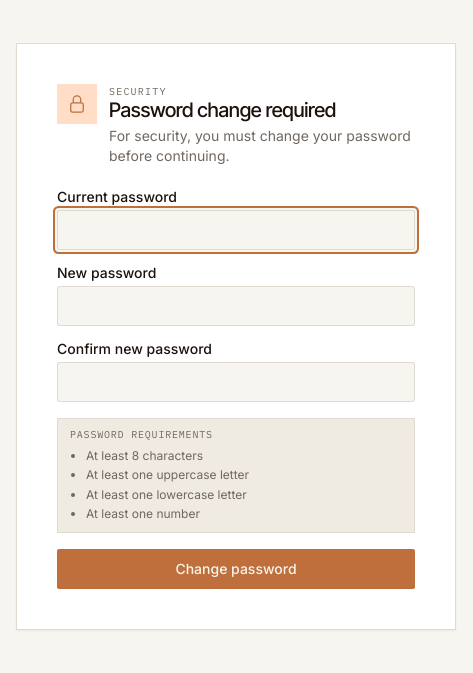
Test case: ChangePasswordForm › shows password mismatch error on submit
In the password field labelled "Current password": (236, 230) [57,210,415,250], type "OldPass1!"
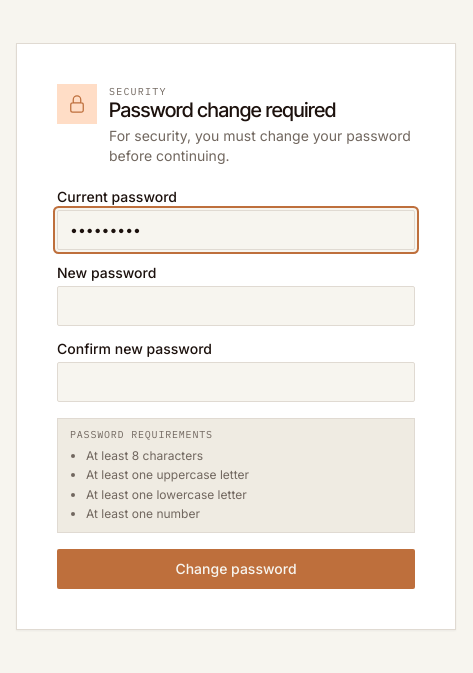
In the password field labelled "New password": (236, 306) [57,286,415,326], type "NewPass1!"
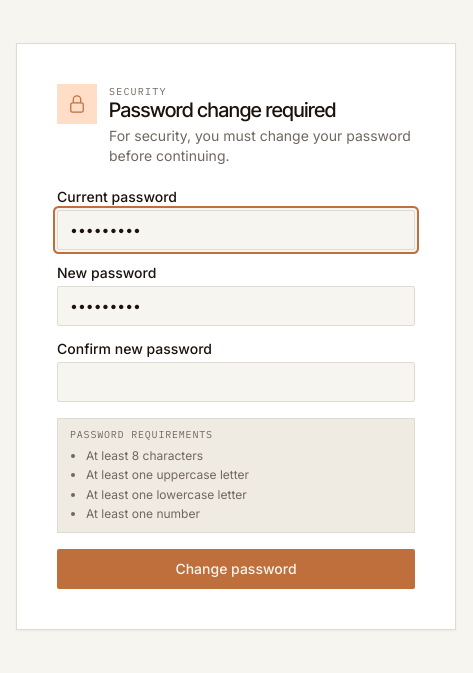
In the password field labelled "Confirm new password": (236, 382) [57,362,415,402], type "Different1!"
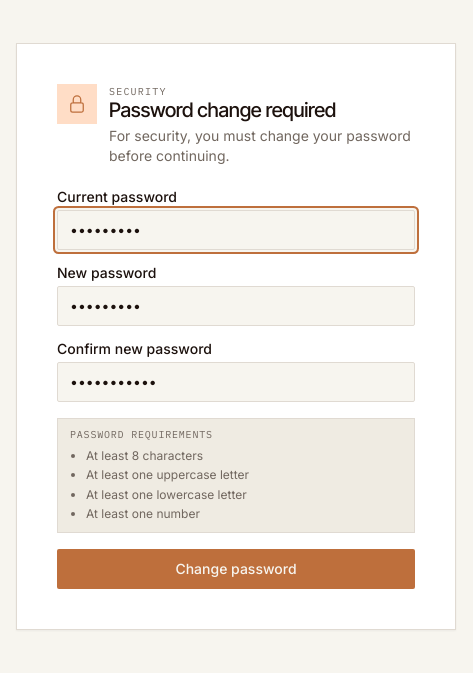
Submit the form labelled "Current password", box [57,190,415,588]
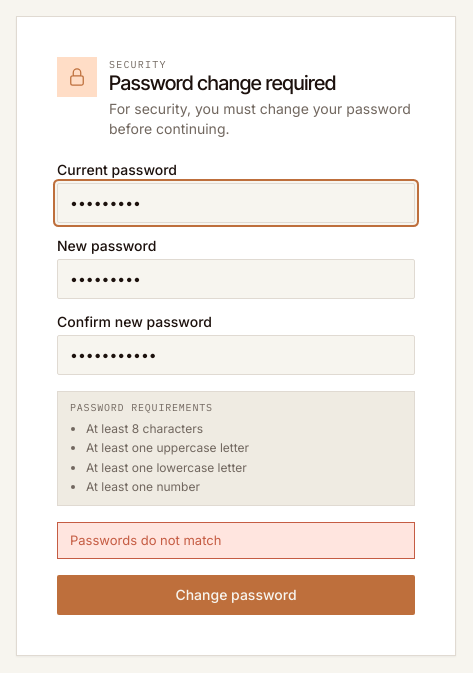
Result: the text "Passwords do not match" is shown at [57,522,415,559]
